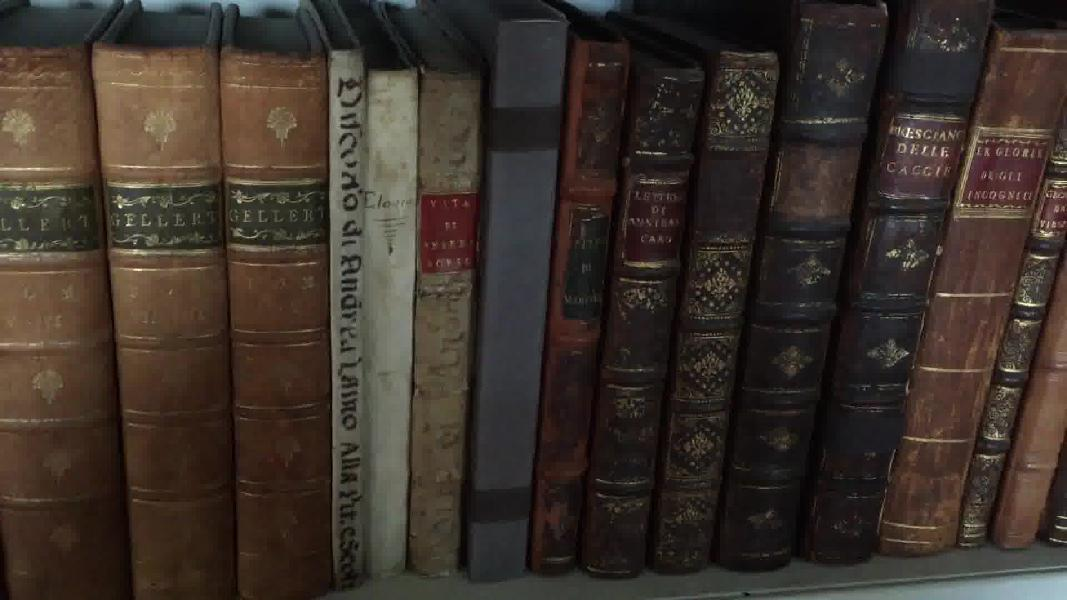Aa6-24: (324, 44, 373, 589)
Aa6-25: (362, 57, 419, 578)
Aa6-26: (419, 63, 478, 588)
Aa6-27: (469, 7, 561, 590)
Aa6-28: (535, 21, 631, 577)
Aa6-29: (590, 28, 700, 593)
Aa6-30: (656, 43, 781, 579)
Aa6-31: (735, 5, 875, 577)
Aa6-32: (798, 4, 990, 558)
Aa6-33: (874, 17, 1067, 555)
